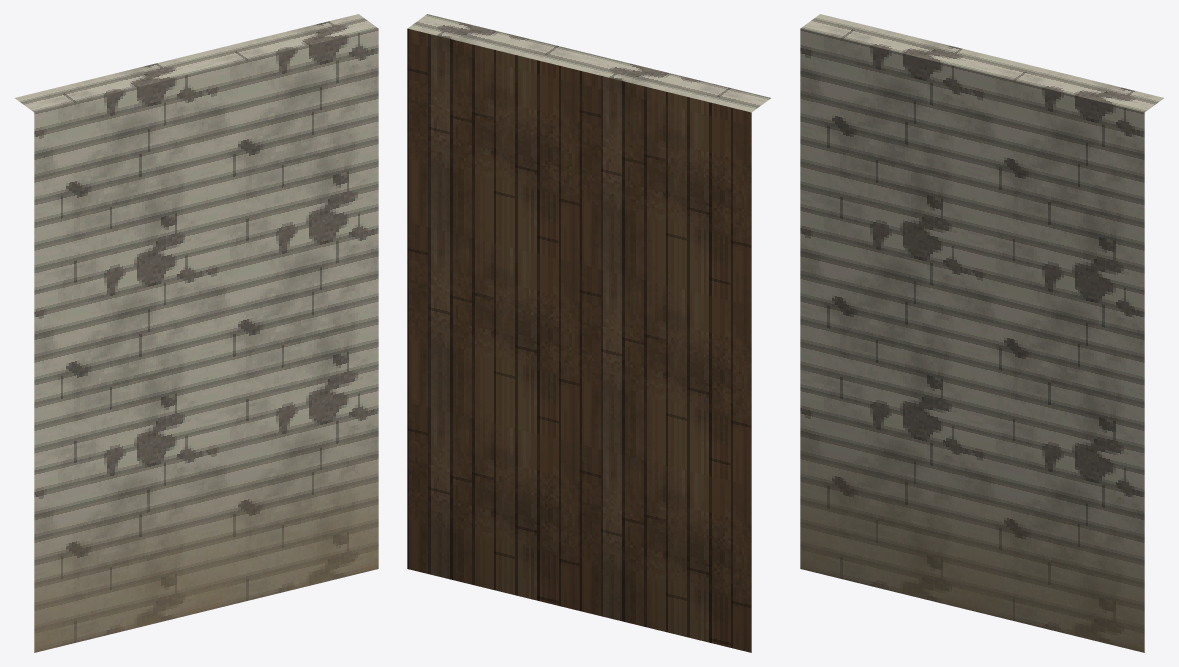
The model's file is wall_white.glb.
3 renders of one model, left to right at view 1: azimuth 30°, elevation 25°; view 2: azimuth 150°, elevation 25°; view 3: azimuth 330°, elevation 25°, orthographic.
Parts seen in each view (by area): view 1: wall_white; view 2: wall_white; view 3: wall_white.
Boxes of the visible parts, x1,y1,x2,y2 form: wall_white: (15, 14, 378, 652); wall_white: (407, 14, 770, 652); wall_white: (800, 14, 1163, 652).
Size of the model in its own units: 2 by 3 by 0.2.
1 material, 1 textured.
